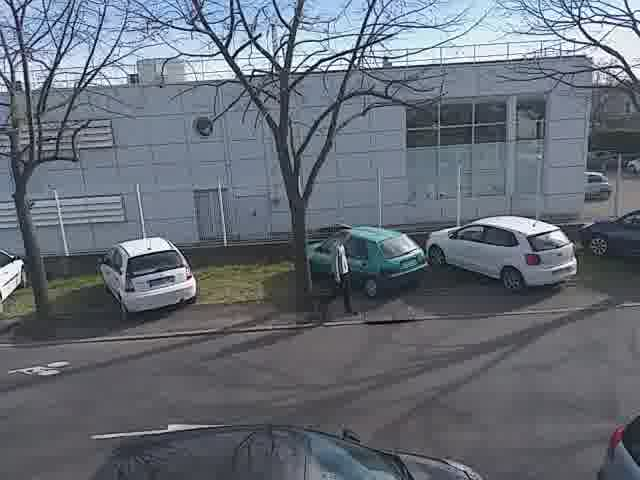persona: (311, 223, 365, 320)
